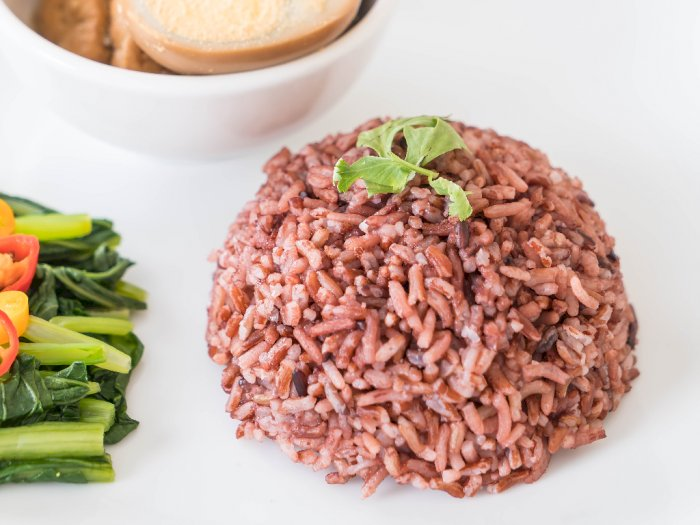Nasi Merah: (166, 102, 638, 482)
